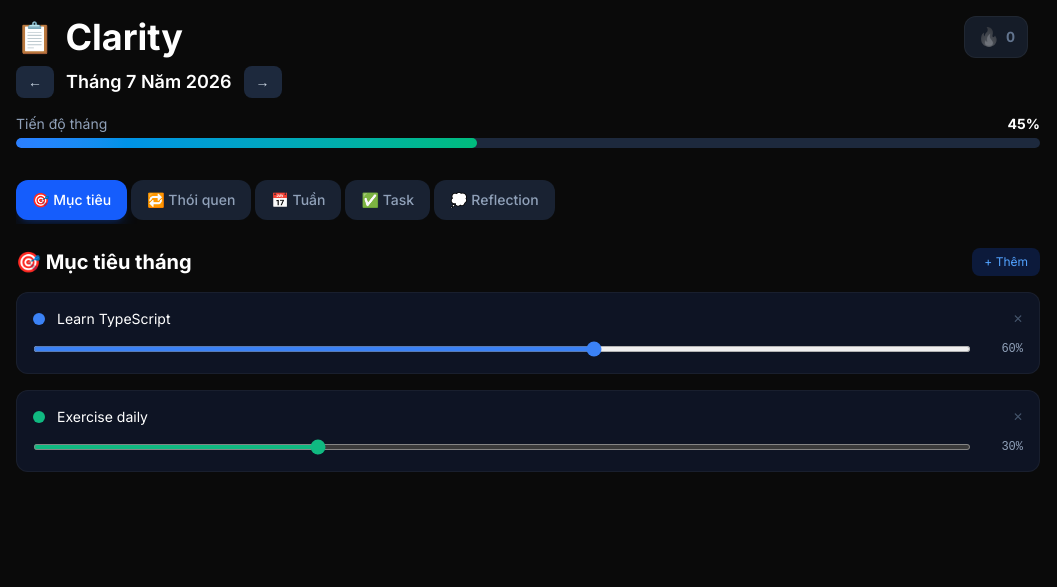
Test: ClarityClient › adds a new goal
Expected: the heading "🎯 Mục tiêu tháng" is shown, [16,248,192,276]
Click the button "+ Thêm" at (1006, 262), box [972,248,1040,276]
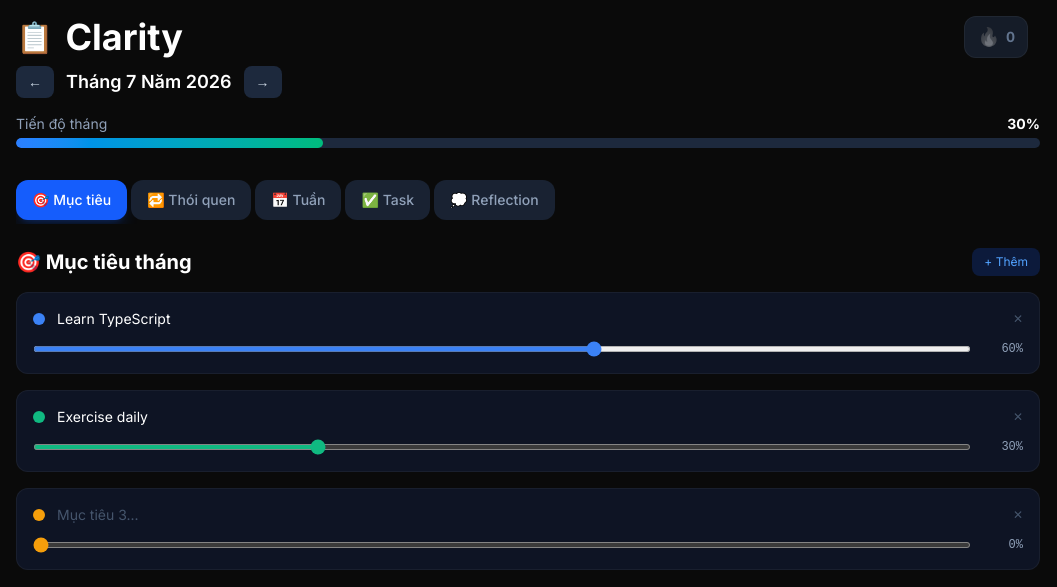
Expected: the number of fields with placeholder "Mục tiêu 1..." is 3, [57,309,1001,329]; [57,407,1001,427]; [57,505,1001,525]
